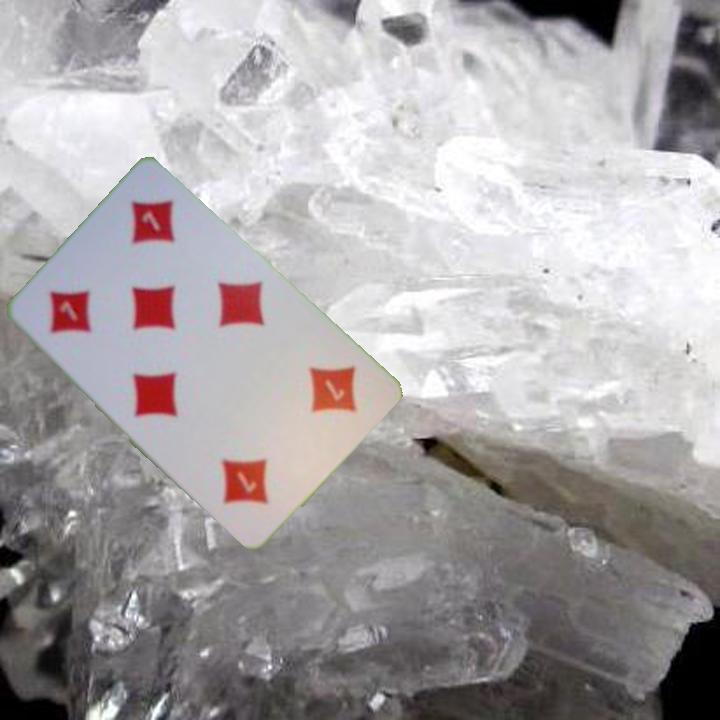d_7.png: (18, 245, 147, 374), (256, 334, 384, 464)
